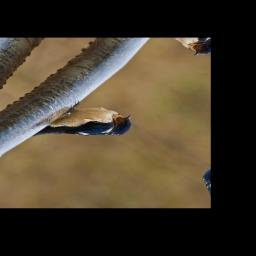Swallow: (31, 89, 141, 167)
